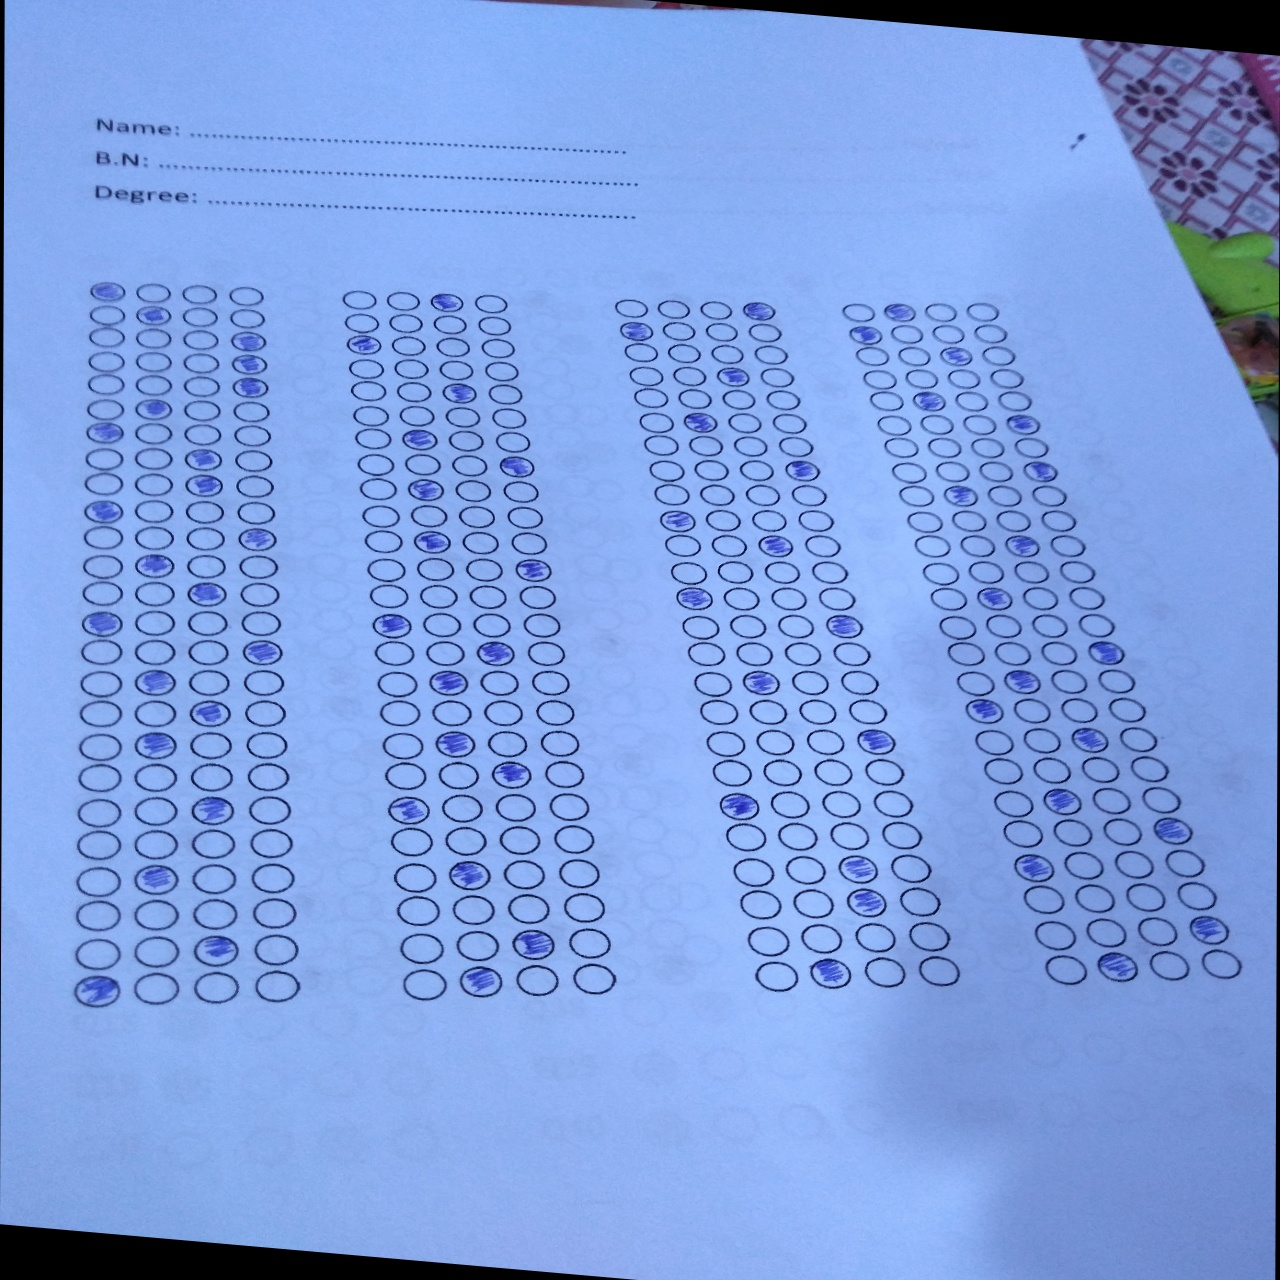not-c: (1032, 915, 1082, 955), (1020, 881, 1070, 920), (252, 966, 299, 1007), (132, 931, 179, 972), (1148, 947, 1196, 987), (1039, 949, 1087, 989), (1084, 911, 1133, 949), (1136, 912, 1185, 951), (75, 931, 121, 972), (132, 967, 178, 1008), (192, 966, 238, 1007), (191, 859, 237, 900), (76, 897, 123, 937), (74, 862, 123, 899), (1196, 949, 1245, 987), (563, 888, 610, 926), (572, 960, 618, 998), (508, 890, 553, 927), (496, 821, 542, 858), (888, 849, 934, 886), (130, 760, 177, 796), (917, 952, 964, 988), (515, 960, 561, 996), (395, 892, 442, 928), (399, 930, 445, 966), (401, 966, 448, 1002), (454, 926, 501, 962), (796, 918, 843, 954), (753, 956, 799, 993), (388, 823, 435, 859), (821, 787, 867, 823), (550, 819, 595, 856), (566, 925, 612, 961), (452, 891, 498, 927), (442, 821, 488, 857), (503, 856, 549, 892), (394, 860, 440, 897), (789, 885, 835, 921), (729, 853, 775, 890), (745, 921, 791, 958), (907, 915, 953, 952), (863, 755, 908, 791), (880, 818, 926, 855), (896, 883, 941, 919), (862, 955, 908, 990), (737, 888, 784, 924), (134, 792, 178, 829), (191, 824, 236, 860), (135, 897, 179, 933), (830, 815, 874, 851), (250, 862, 295, 897), (554, 855, 600, 890), (783, 853, 829, 888), (855, 921, 900, 956), (869, 785, 914, 821), (248, 791, 292, 828), (254, 931, 298, 967), (253, 892, 297, 928), (251, 825, 294, 862), (77, 825, 121, 862), (77, 795, 121, 831), (132, 828, 176, 864), (79, 697, 124, 731), (132, 696, 178, 730), (79, 634, 122, 669), (193, 896, 237, 931), (188, 607, 232, 641), (75, 760, 120, 794), (238, 606, 284, 639), (183, 635, 226, 669), (188, 665, 229, 700), (247, 760, 290, 794), (189, 760, 231, 794), (81, 665, 123, 699), (994, 636, 1036, 670), (132, 607, 179, 638), (134, 636, 177, 669), (79, 731, 122, 764), (482, 697, 524, 730), (436, 757, 478, 790), (756, 727, 798, 760), (244, 727, 286, 760), (421, 610, 463, 642), (969, 726, 1012, 758), (839, 665, 881, 697), (981, 753, 1023, 785), (1061, 849, 1103, 881), (919, 554, 961, 587), (1058, 693, 1101, 726), (1103, 692, 1145, 724), (1020, 583, 1062, 615), (745, 697, 789, 729), (189, 730, 232, 762), (1020, 722, 1063, 754), (1090, 783, 1133, 815), (726, 610, 767, 642), (724, 821, 765, 853), (777, 611, 818, 644), (983, 610, 1024, 642), (1080, 754, 1121, 787), (1040, 638, 1081, 670), (1032, 611, 1073, 644), (468, 610, 513, 639), (239, 578, 281, 610), (527, 667, 570, 699), (478, 668, 520, 700), (538, 728, 580, 760), (751, 728, 794, 760), (735, 639, 777, 670), (707, 757, 749, 789), (704, 728, 747, 760), (686, 640, 728, 672), (430, 697, 472, 729), (496, 791, 538, 823), (768, 583, 810, 614), (775, 821, 817, 852), (243, 697, 285, 729), (383, 760, 425, 791), (380, 726, 422, 757), (377, 697, 420, 729), (376, 669, 418, 701), (847, 695, 890, 727), (806, 727, 849, 758), (811, 755, 853, 787), (1074, 881, 1116, 913), (1053, 816, 1095, 847), (1029, 755, 1071, 787), (1010, 695, 1053, 727), (952, 666, 994, 697), (942, 638, 985, 669), (934, 612, 976, 644), (927, 583, 969, 614), (1112, 847, 1155, 879), (1047, 666, 1089, 697), (1099, 813, 1142, 845), (1141, 784, 1183, 816), (1130, 753, 1172, 784), (1118, 723, 1160, 755), (1092, 663, 1135, 695), (1051, 554, 1094, 586), (811, 554, 853, 586), (486, 728, 527, 760), (547, 789, 588, 821), (697, 695, 738, 727), (241, 666, 282, 697), (425, 636, 467, 668), (372, 638, 413, 669), (1175, 879, 1216, 911), (1065, 580, 1107, 612), (1074, 608, 1115, 640), (813, 581, 855, 613), (416, 554, 458, 585), (545, 760, 587, 790), (533, 697, 576, 728), (692, 669, 734, 700), (771, 790, 813, 821), (760, 756, 802, 787), (417, 581, 459, 612), (1000, 818, 1042, 849), (831, 635, 873, 666), (797, 696, 839, 727), (866, 757, 908, 788), (990, 787, 1033, 817), (1162, 846, 1204, 877), (135, 576, 173, 608), (467, 581, 508, 612), (440, 792, 481, 823), (1126, 881, 1167, 912), (186, 523, 226, 553), (389, 332, 431, 360), (359, 502, 401, 530), (130, 373, 172, 401), (82, 552, 124, 580), (1032, 481, 1069, 512), (903, 510, 941, 540), (232, 445, 272, 475), (520, 610, 560, 639), (697, 294, 738, 322), (474, 287, 515, 315), (346, 355, 387, 383), (393, 377, 434, 406), (370, 581, 411, 610), (366, 554, 407, 583), (358, 451, 399, 479), (347, 379, 388, 407), (81, 523, 122, 551), (84, 469, 125, 497), (186, 552, 227, 580), (83, 579, 124, 607), (955, 530, 996, 558), (397, 402, 440, 429), (361, 527, 403, 554), (525, 639, 564, 668), (789, 667, 828, 696), (226, 280, 266, 308), (181, 280, 220, 308), (233, 472, 273, 501), (231, 399, 271, 427), (381, 285, 421, 313), (134, 279, 173, 307), (359, 475, 399, 503), (86, 443, 125, 471), (86, 324, 125, 352), (680, 613, 720, 641), (1012, 554, 1047, 586), (1050, 529, 1087, 559), (239, 553, 280, 580), (402, 451, 443, 478), (392, 356, 433, 383), (384, 311, 425, 338), (350, 401, 392, 428), (83, 395, 124, 422), (86, 372, 127, 399), (88, 348, 129, 375), (131, 498, 172, 525), (132, 471, 173, 498), (783, 639, 821, 668), (966, 554, 1003, 584), (1014, 433, 1051, 462), (1041, 508, 1078, 537), (230, 421, 268, 449), (622, 338, 661, 366), (465, 556, 504, 584), (182, 350, 222, 377), (234, 501, 274, 527), (613, 292, 653, 319), (134, 324, 173, 350), (86, 301, 125, 328), (339, 285, 379, 312), (181, 373, 220, 400), (181, 326, 220, 353), (132, 421, 172, 448), (983, 482, 1023, 509), (186, 497, 223, 526), (353, 423, 394, 449), (132, 526, 173, 552), (134, 445, 175, 471), (342, 308, 381, 335), (181, 305, 219, 332), (462, 527, 501, 554), (897, 482, 935, 509), (918, 409, 956, 436), (955, 388, 994, 415), (964, 298, 1002, 325), (629, 384, 669, 410), (652, 481, 692, 506), (788, 481, 828, 506), (995, 508, 1032, 536), (881, 433, 919, 459), (874, 411, 912, 438), (988, 363, 1026, 390), (482, 359, 520, 384), (495, 427, 533, 452), (451, 451, 490, 477), (456, 502, 495, 527), (646, 456, 685, 482), (669, 363, 708, 389), (748, 506, 787, 532), (737, 456, 776, 482), (731, 433, 770, 458), (722, 585, 761, 611), (686, 433, 724, 458), (796, 508, 835, 533), (775, 434, 813, 459), (763, 388, 802, 414), (760, 363, 798, 389), (888, 457, 927, 483), (860, 368, 899, 394), (978, 457, 1016, 483), (971, 319, 1009, 345), (509, 530, 549, 554), (486, 383, 526, 408), (454, 478, 493, 503), (754, 343, 794, 368), (135, 350, 172, 376), (440, 358, 477, 383), (431, 312, 469, 338), (517, 584, 554, 610), (505, 504, 543, 530), (644, 431, 681, 457), (686, 433, 723, 458), (675, 384, 713, 410), (745, 482, 783, 508), (723, 387, 761, 413), (704, 509, 742, 535), (769, 409, 806, 435), (804, 531, 842, 557), (926, 434, 964, 459), (960, 411, 998, 437), (949, 509, 987, 535), (934, 459, 972, 485), (998, 386, 1035, 411), (476, 335, 517, 359), (501, 481, 539, 505), (458, 503, 497, 527), (445, 428, 484, 452), (626, 365, 665, 389), (638, 409, 676, 434), (662, 532, 701, 557), (716, 559, 755, 584), (709, 533, 748, 558), (692, 458, 730, 483), (726, 409, 762, 435), (971, 434, 1007, 459), (229, 307, 268, 331), (445, 403, 483, 428), (436, 334, 474, 359), (491, 406, 529, 430), (669, 561, 707, 586), (695, 483, 733, 508), (764, 559, 802, 584), (866, 388, 904, 413), (184, 350, 219, 376), (703, 318, 738, 343), (912, 533, 951, 557), (183, 399, 219, 423), (476, 314, 513, 338), (922, 300, 960, 324), (981, 343, 1019, 367), (945, 367, 982, 390), (930, 320, 967, 343), (896, 343, 933, 367), (659, 319, 695, 342), (853, 343, 890, 367), (654, 297, 692, 319), (903, 367, 940, 389), (184, 422, 219, 445), (710, 341, 745, 365), (839, 300, 874, 324), (747, 321, 783, 343), (666, 342, 701, 365), (888, 322, 925, 343)
taken-c: (72, 971, 125, 1012), (457, 959, 504, 1001), (190, 931, 241, 968), (1189, 908, 1237, 948), (1095, 948, 1144, 987), (842, 884, 892, 921), (805, 955, 855, 993), (510, 925, 559, 962), (132, 862, 182, 897), (129, 666, 181, 699), (1010, 849, 1056, 885), (853, 726, 900, 760), (191, 792, 234, 828), (837, 852, 883, 885), (450, 857, 493, 891), (1039, 785, 1083, 818), (1067, 723, 1110, 756), (1151, 813, 1194, 846), (368, 610, 413, 641), (386, 794, 430, 825), (82, 495, 125, 526), (435, 728, 478, 760), (1000, 666, 1043, 697), (132, 551, 177, 581), (819, 612, 865, 641), (240, 636, 282, 668), (1084, 636, 1126, 668), (475, 639, 518, 669), (491, 760, 535, 790), (717, 790, 761, 821), (132, 729, 176, 760), (974, 583, 1017, 613), (425, 286, 470, 315), (130, 301, 175, 331), (189, 697, 233, 727), (130, 394, 175, 422), (81, 607, 122, 638), (188, 579, 229, 608), (86, 278, 130, 305), (430, 669, 472, 697), (966, 695, 1005, 726), (497, 452, 540, 479), (230, 374, 270, 403), (181, 445, 222, 474), (940, 482, 981, 510), (81, 418, 123, 445), (738, 669, 781, 696), (413, 527, 452, 556), (714, 363, 754, 392), (617, 316, 658, 343), (680, 408, 721, 435), (185, 474, 226, 501), (756, 533, 797, 560), (674, 586, 715, 613), (658, 508, 699, 535), (1019, 457, 1060, 484), (230, 327, 268, 355), (740, 297, 779, 324), (406, 477, 445, 504), (229, 350, 268, 377), (1005, 532, 1041, 561), (399, 427, 440, 452), (343, 332, 384, 358), (512, 557, 553, 583), (236, 525, 277, 551), (783, 458, 822, 485), (939, 341, 978, 368), (910, 388, 949, 414), (1005, 411, 1046, 435), (879, 300, 919, 324), (441, 382, 479, 406), (844, 322, 884, 345)
